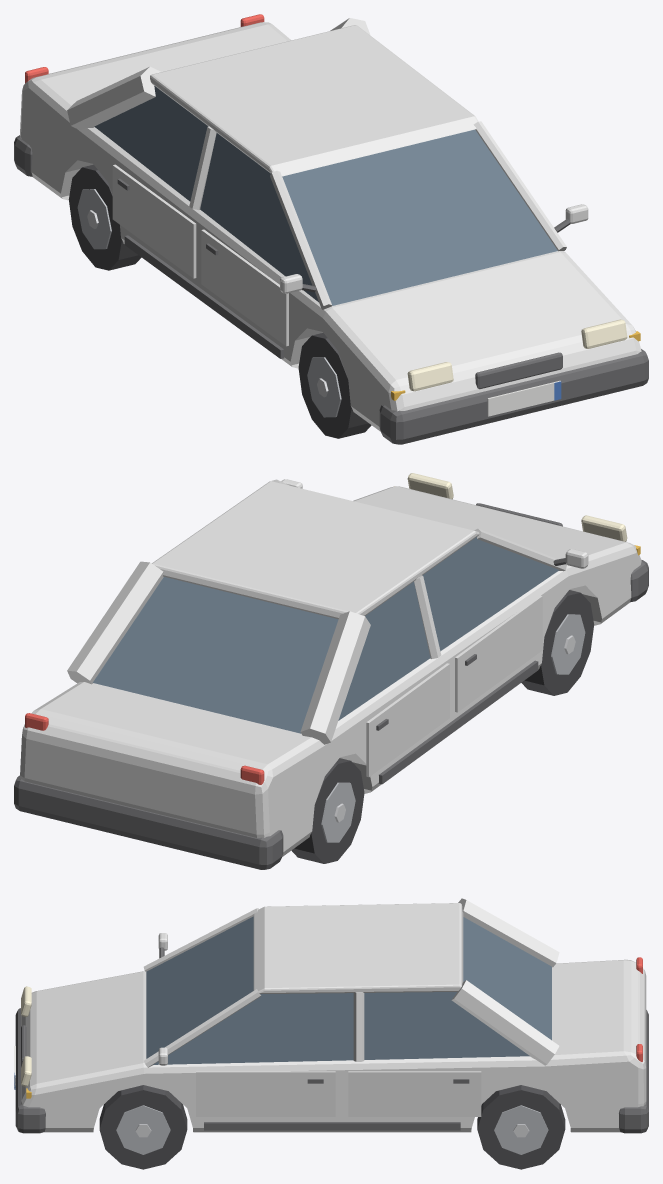
Rendered from car-sedan.glb.
3 views of the same model, one above another, from view 1: azimuth 30°, elevation 25°; view 2: azimuth 150°, elevation 25°; view 3: azimuth 270°, elevation 25° (orthographic). The views are drawn at different scales.
Visible parts, largest first — view 1: body, detach_bumper_front, detach_door_right, wheel-front-right, wheel-back-right; view 2: body, detach_bumper_back, detach_door_right, wheel-back-right, wheel-front-right, detach_bumper_front; view 3: body, detach_door_left, wheel-front-left, wheel-back-left, detach_bumper_front, detach_bumper_back.
Boxes of the visible parts, bbox=[...] form: body: bbox=[20, 14, 641, 431]; detach_bumper_front: bbox=[379, 349, 648, 444]; detach_door_right: bbox=[201, 229, 288, 346]; wheel-front-right: bbox=[298, 332, 371, 438]; wheel-back-right: bbox=[68, 164, 141, 270]; body: bbox=[20, 473, 641, 856]; detach_bumper_back: bbox=[14, 775, 283, 869]; detach_door_right: bbox=[455, 595, 542, 712]; wheel-back-right: bbox=[291, 758, 364, 863]; wheel-front-right: bbox=[521, 590, 594, 695]; detach_bumper_front: bbox=[630, 560, 648, 601]; body: bbox=[21, 898, 646, 1132]; detach_door_left: bbox=[196, 1071, 335, 1116]; wheel-front-left: bbox=[99, 1085, 187, 1169]; wheel-back-left: bbox=[477, 1085, 565, 1169]; detach_bumper_front: bbox=[14, 1008, 45, 1133]; detach_bumper_back: bbox=[619, 1010, 648, 1133].
Bounding box in the file's own units: 2.18 × 1.5 × 4.77.
